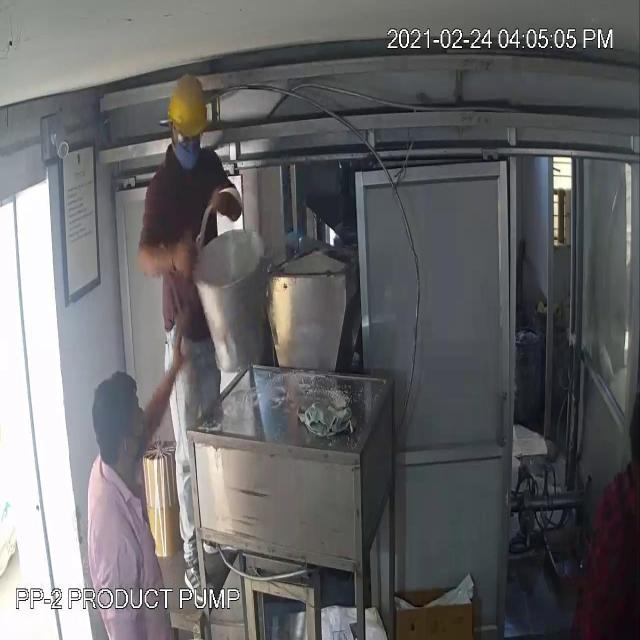helmet: (164, 74, 216, 138)
no-helmet: (89, 357, 152, 457)
